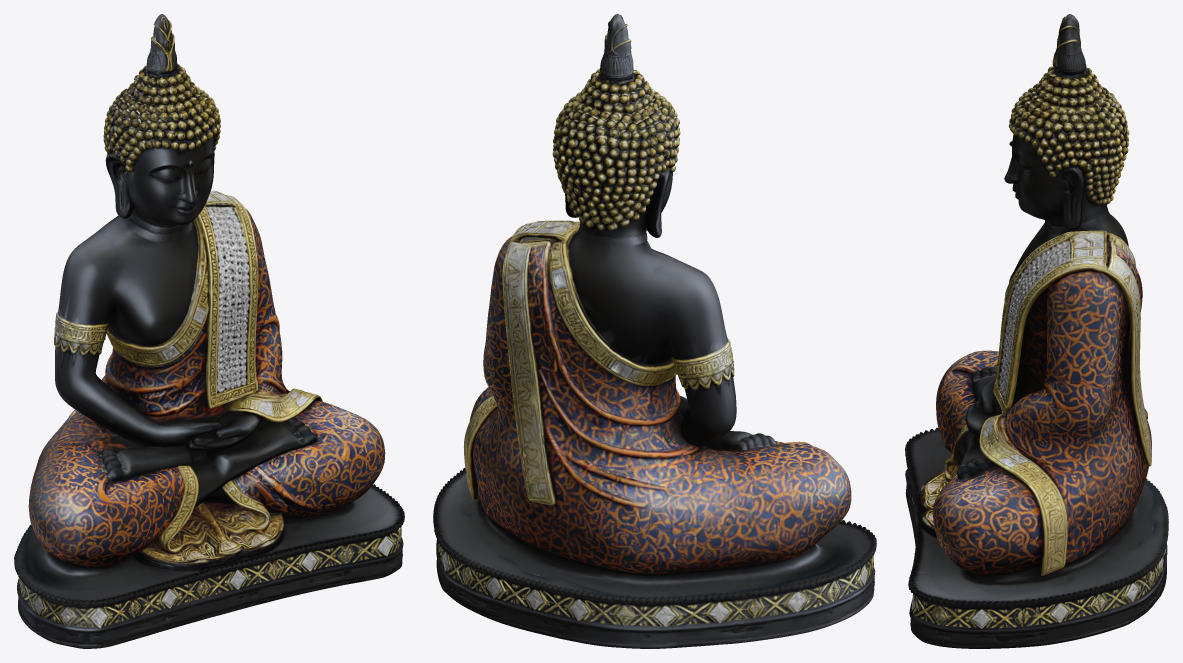
The model's file is buddha_5.glb.
3 views of the same model, side by side, from view 1: azimuth 30°, elevation 25°; view 2: azimuth 150°, elevation 25°; view 3: azimuth 270°, elevation 25° (orthographic). The views are drawn at different scales.
Visible parts, largest first — view 1: tripo_node_ec33307c-6ead-44a2-aad3-28549f8b2d39; view 2: tripo_node_ec33307c-6ead-44a2-aad3-28549f8b2d39; view 3: tripo_node_ec33307c-6ead-44a2-aad3-28549f8b2d39.
Part boxes in pixels (<box>): tripo_node_ec33307c-6ead-44a2-aad3-28549f8b2d39: <box>14,14,404,648</box>; tripo_node_ec33307c-6ead-44a2-aad3-28549f8b2d39: <box>433,14,876,648</box>; tripo_node_ec33307c-6ead-44a2-aad3-28549f8b2d39: <box>905,14,1168,648</box>.
Size of the model in its own units: 0.689 by 0.9784 by 0.4283.
Materials: 1 (1 with a texture image).
